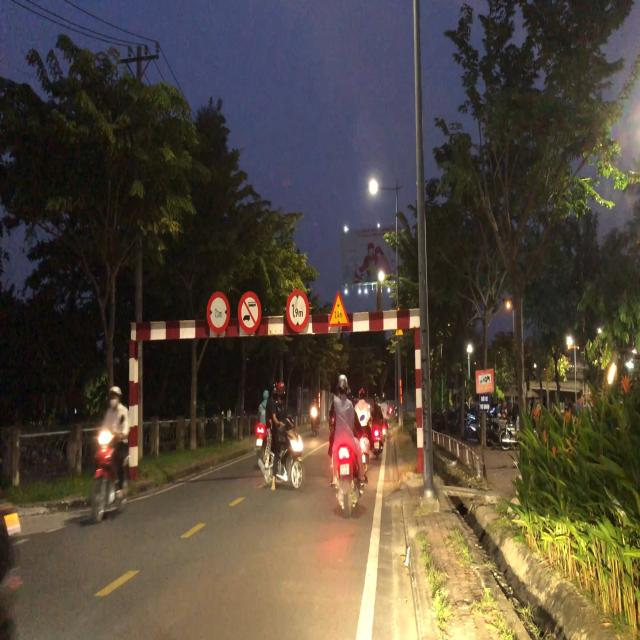Bien bao cam xe oto khach va xe oto tai: (236, 288, 262, 334)
Bien bao chieu cao tinh khong thuc te: (326, 287, 352, 332)
Bien bao han che chieu cao: (284, 286, 312, 339)
